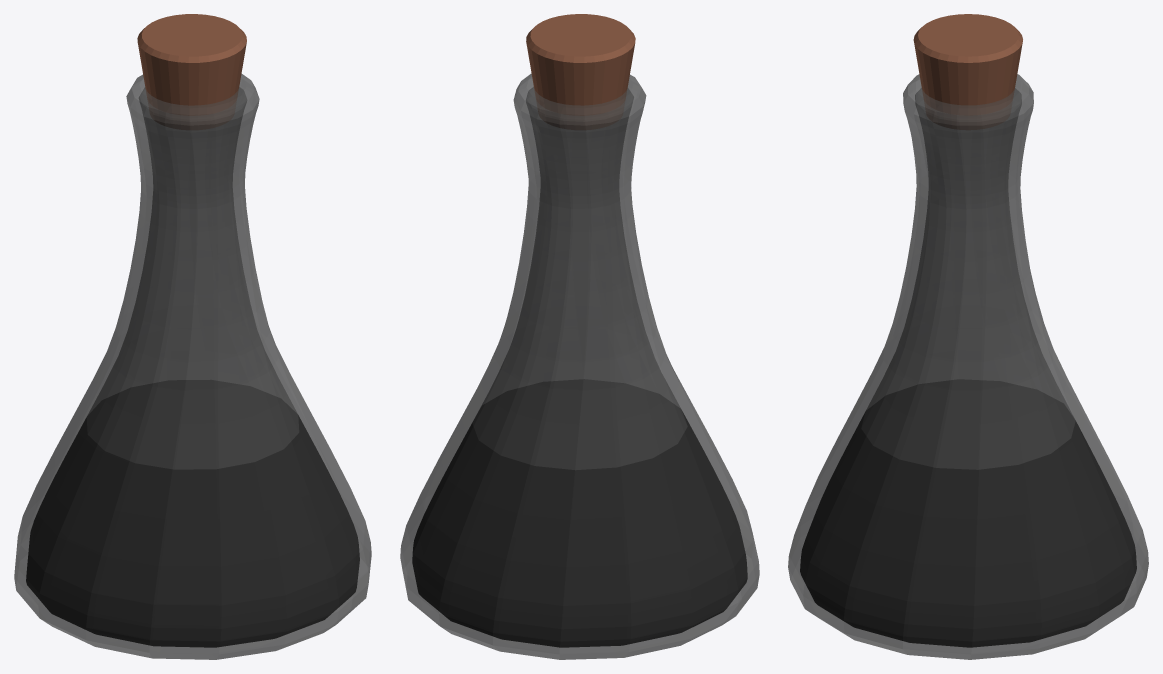
The model's file is potionWrong1.fbx.
3 views of the same model, side by side, from view 1: azimuth 30°, elevation 25°; view 2: azimuth 150°, elevation 25°; view 3: azimuth 270°, elevation 25° (orthographic).
Visible parts, largest first — view 1: potion3.003; view 2: potion3.003; view 3: potion3.003.
Boxes of the visible parts, <box> form: potion3.003: <box>14,14,371,659</box>; potion3.003: <box>400,14,759,659</box>; potion3.003: <box>788,14,1148,659</box>.
Size of the model in its own units: 32.79 by 56.71 by 32.79.
